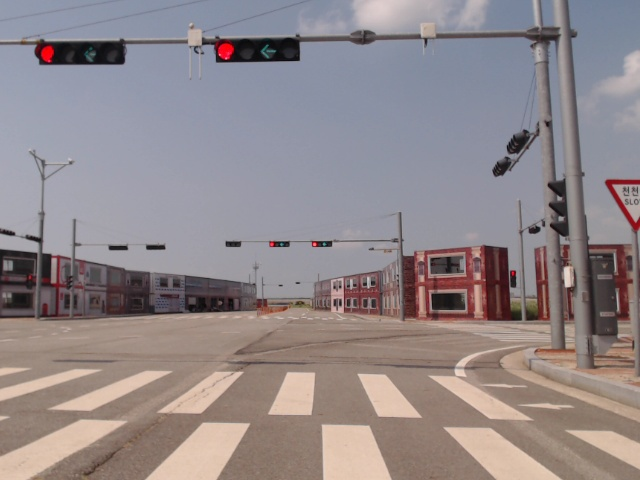left_green_4: (36, 39, 129, 65), (215, 41, 300, 62), (269, 241, 290, 246), (312, 242, 332, 247)
